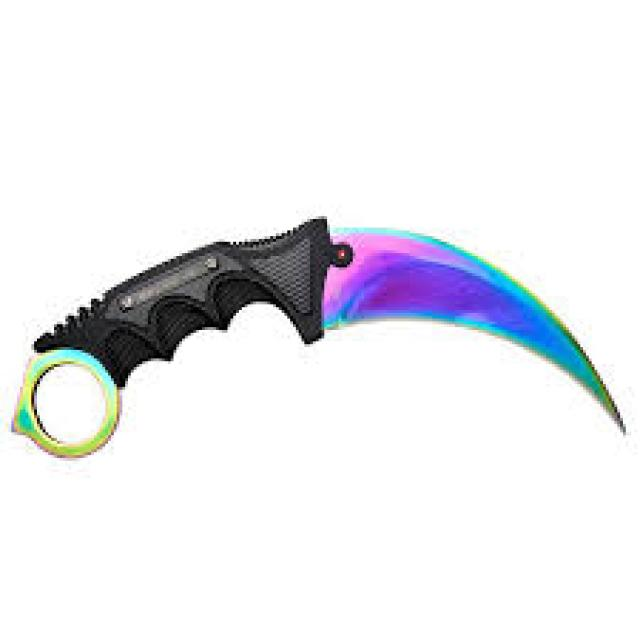knives: (6, 211, 628, 464)
